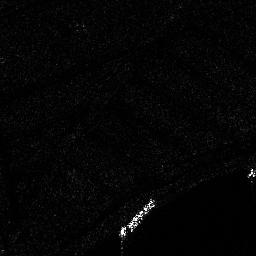ship: (119, 197, 155, 237)
